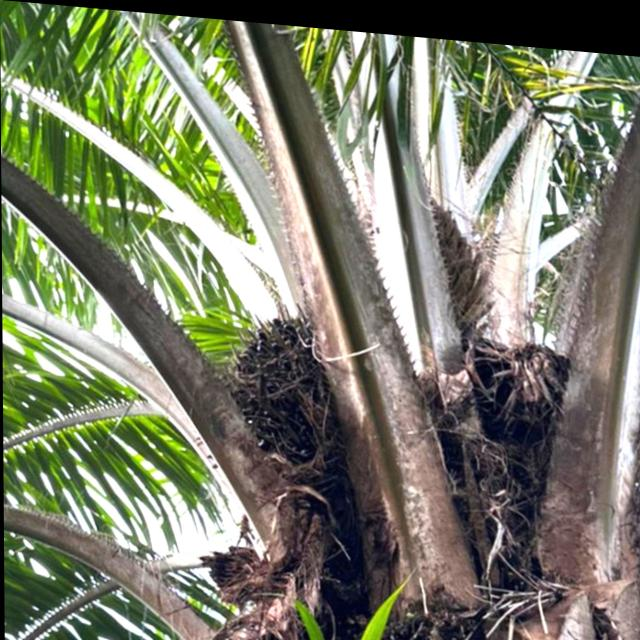unripe: (210, 287, 377, 513), (189, 281, 376, 438), (189, 433, 367, 468)
